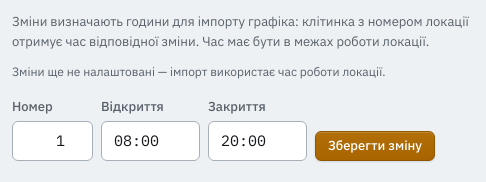
it: SlotEditor › advances the slot number after saving, so entering a run of slots is uninterrupted
The width and height of the screenshot is (486, 182).
Click the button "Зберегти зміну": [375, 146] box [315,130,435,160]
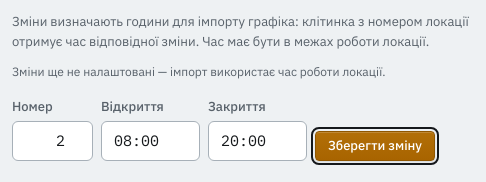
Now the number field labelled "Номер" holds "2", box [12,120,93,160]
